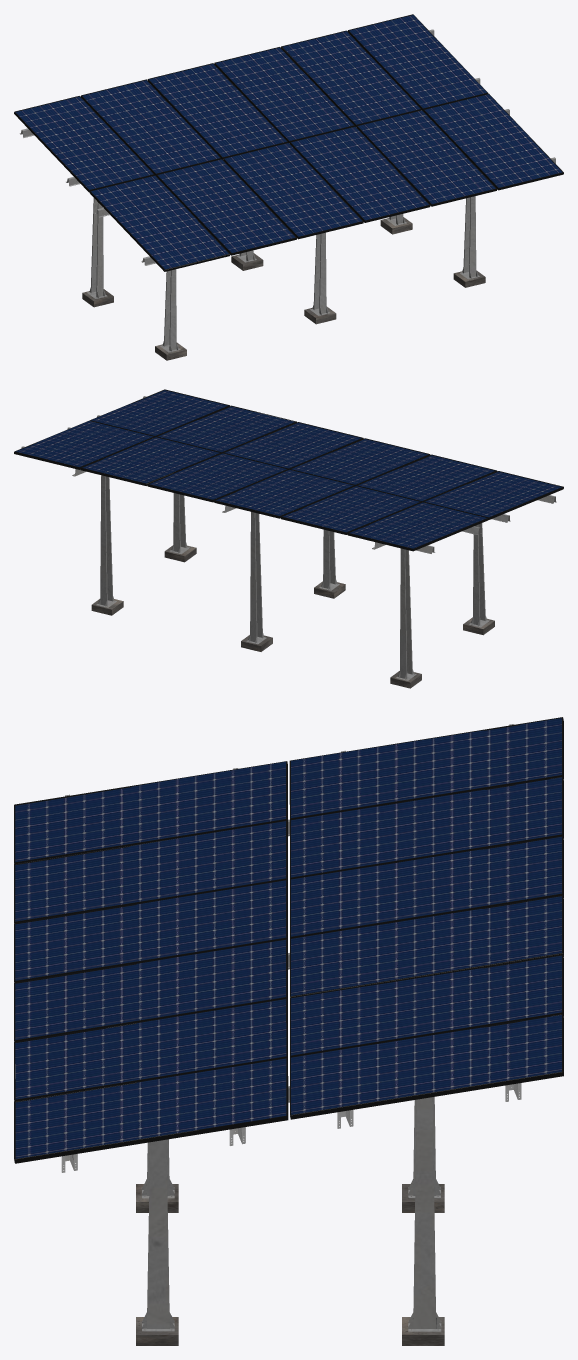
The picture shows the model from 3 angles, top to bottom: view 1: azimuth 30°, elevation 25°; view 2: azimuth 150°, elevation 25°; view 3: azimuth 270°, elevation 25°; orthographic projection. The views are drawn at different scales.
Parts seen in each view (by area): view 1: correct.002_Baked, correct_Baked, base_Baked; view 2: correct.002_Baked, correct_Baked, base_Baked; view 3: correct.002_Baked, correct_Baked, base_Baked.
Part boxes in pixels (left/top/right/bottom): correct.002_Baked: left=15, top=15, right=562, bottom=269; correct_Baked: left=14, top=14, right=563, bottom=352; base_Baked: left=82, top=217, right=485, bottom=360; correct.002_Baked: left=16, top=390, right=561, bottom=548; correct_Baked: left=14, top=389, right=563, bottom=680; base_Baked: left=91, top=545, right=494, bottom=688; correct.002_Baked: left=15, top=718, right=561, bottom=1158; correct_Baked: left=14, top=717, right=563, bottom=1331; base_Baked: left=136, top=1184, right=444, bottom=1345.
Bounding box in the file's own units: 7.11 × 2.84 × 4.51.
Materials: 3 (3 with a texture image).
